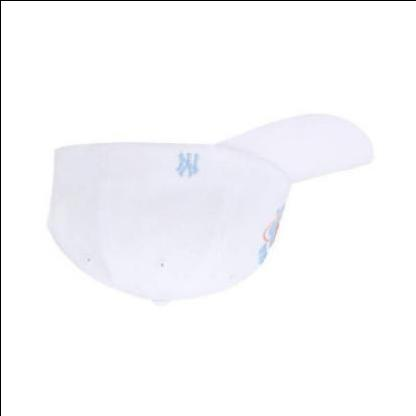cap: (40, 102, 382, 314)
